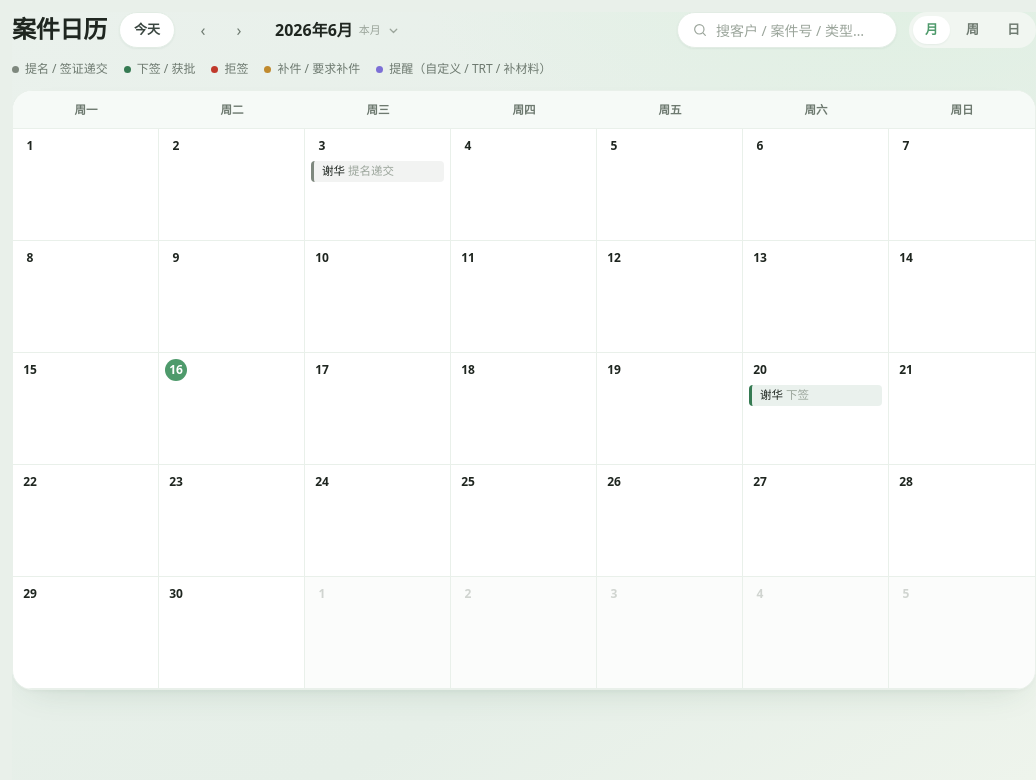
Test case: CalendarPage·Google 风（顶栏 + 彩条 + 三视图） › 「今天」按钮：翻到下月后点它 → 回到本月并重新高亮今天
Click the button named "下一页".
click(239, 30)  # box [223,14,255,46]
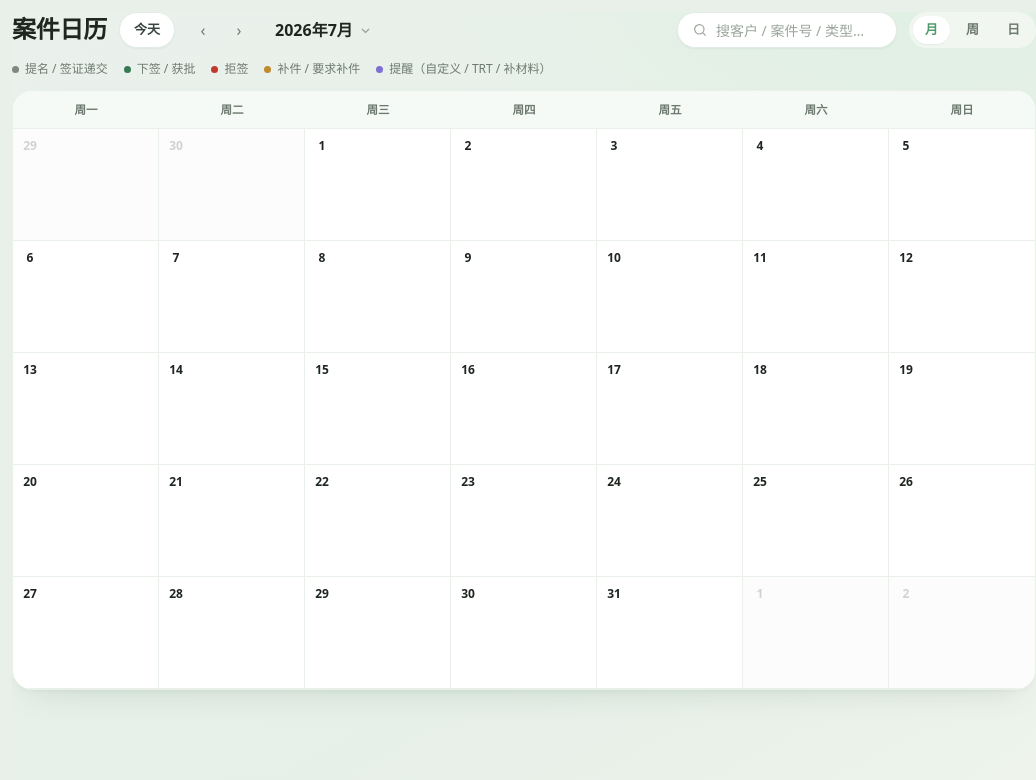
Check: the button "谢华 下签" is gone
Click the button "今天".
click(147, 30)  # box [119,12,175,48]
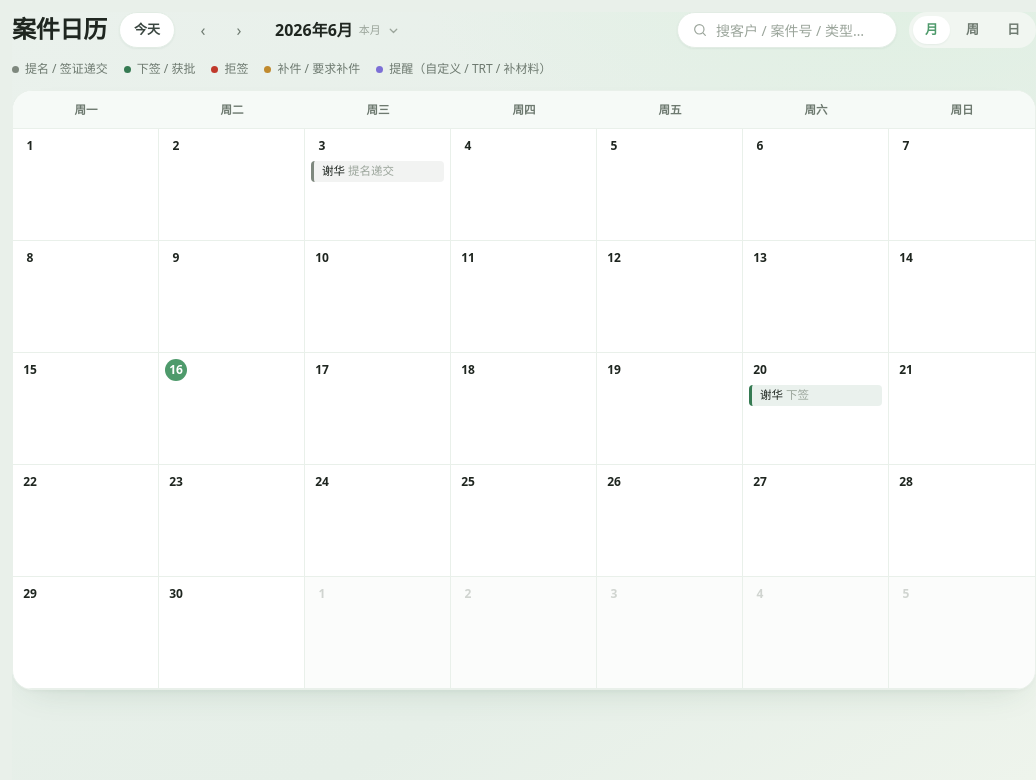
Check: the button "谢华 下签" is shown, box [749,385,882,406]
